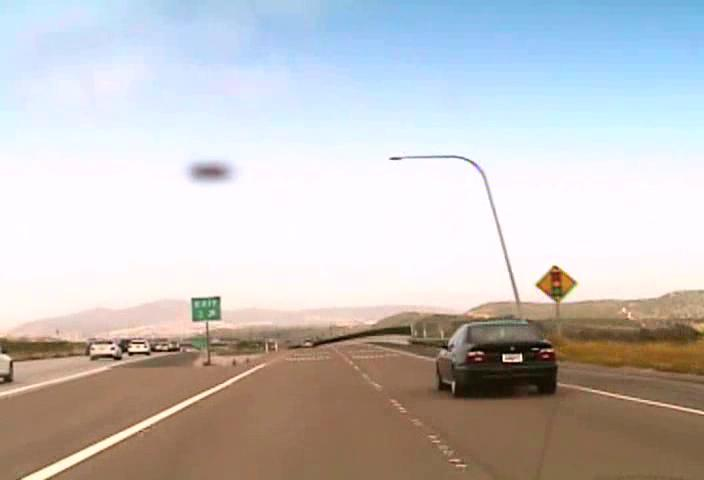signalAhead: (535, 264, 577, 302)
